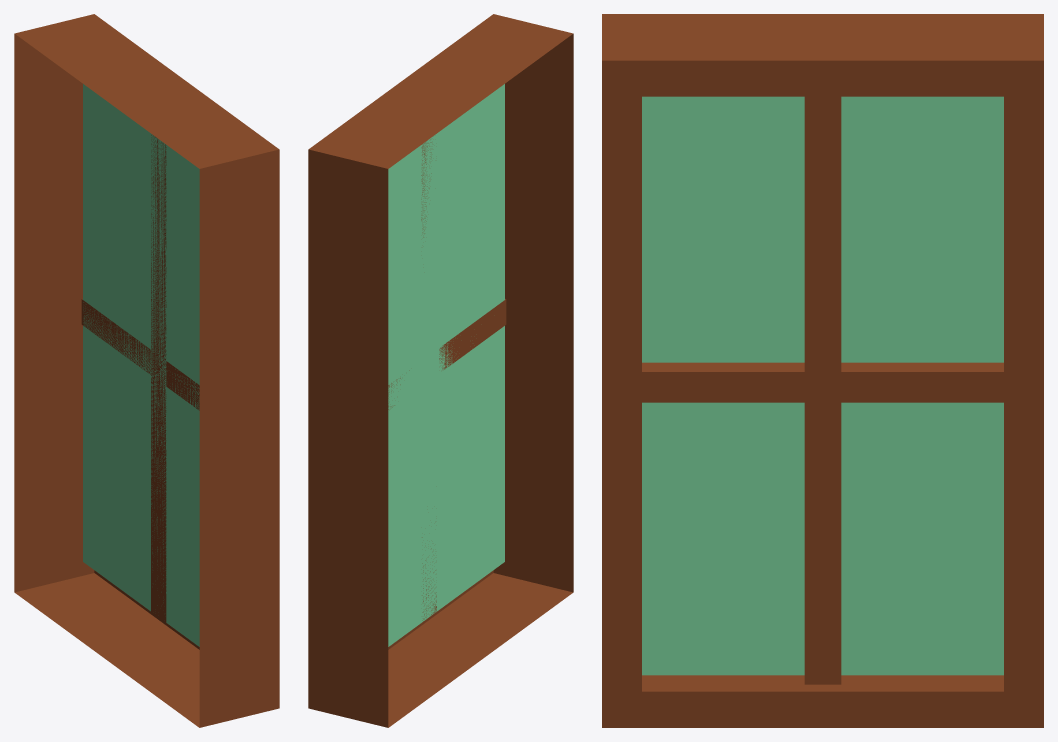
Rendered from GGJ25-popq_window.fbx.
The picture shows the model from 3 angles, left to right: view 1: azimuth 30°, elevation 25°; view 2: azimuth 150°, elevation 25°; view 3: azimuth 270°, elevation 25°; orthographic projection. The views are drawn at different scales.
Visible parts, largest first — view 1: window; view 2: window; view 3: window.
Part boxes in pixels (box(x1,y1,x2,y2)): window: box(14, 14, 279, 727); window: box(308, 14, 573, 727); window: box(602, 14, 1043, 727).
Size of the model in its own units: 127 by 211 by 31.64.
